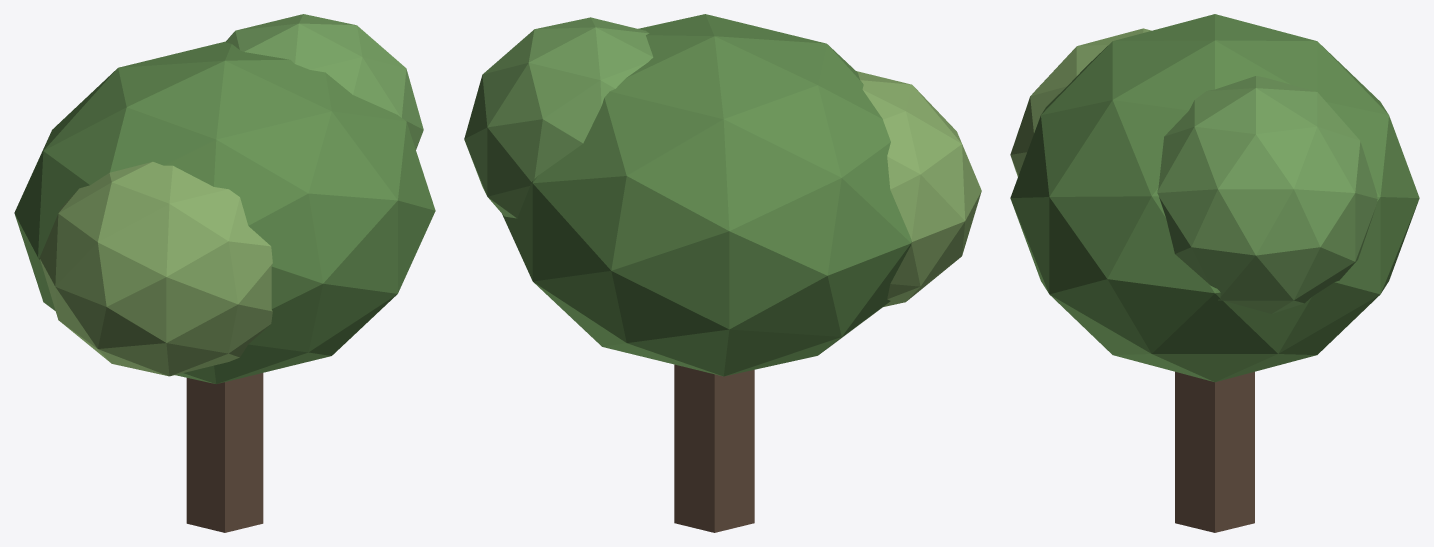
The model's file is tree_bushy_mini.glb.
3 renders of one model, left to right at view 1: azimuth 30°, elevation 25°; view 2: azimuth 150°, elevation 25°; view 3: azimuth 270°, elevation 25°, orthographic. The views are drawn at different scales.
Visible parts, largest first — view 1: part_00; view 2: part_00; view 3: part_00.
Part boxes in pixels (x1=…): part_00: x1=14, y1=14, x2=435, y2=532; part_00: x1=464, y1=14, x2=981, y2=532; part_00: x1=1010, y1=14, x2=1419, y2=532.
Size of the model in its own units: 0.48 by 0.51 by 0.4.
